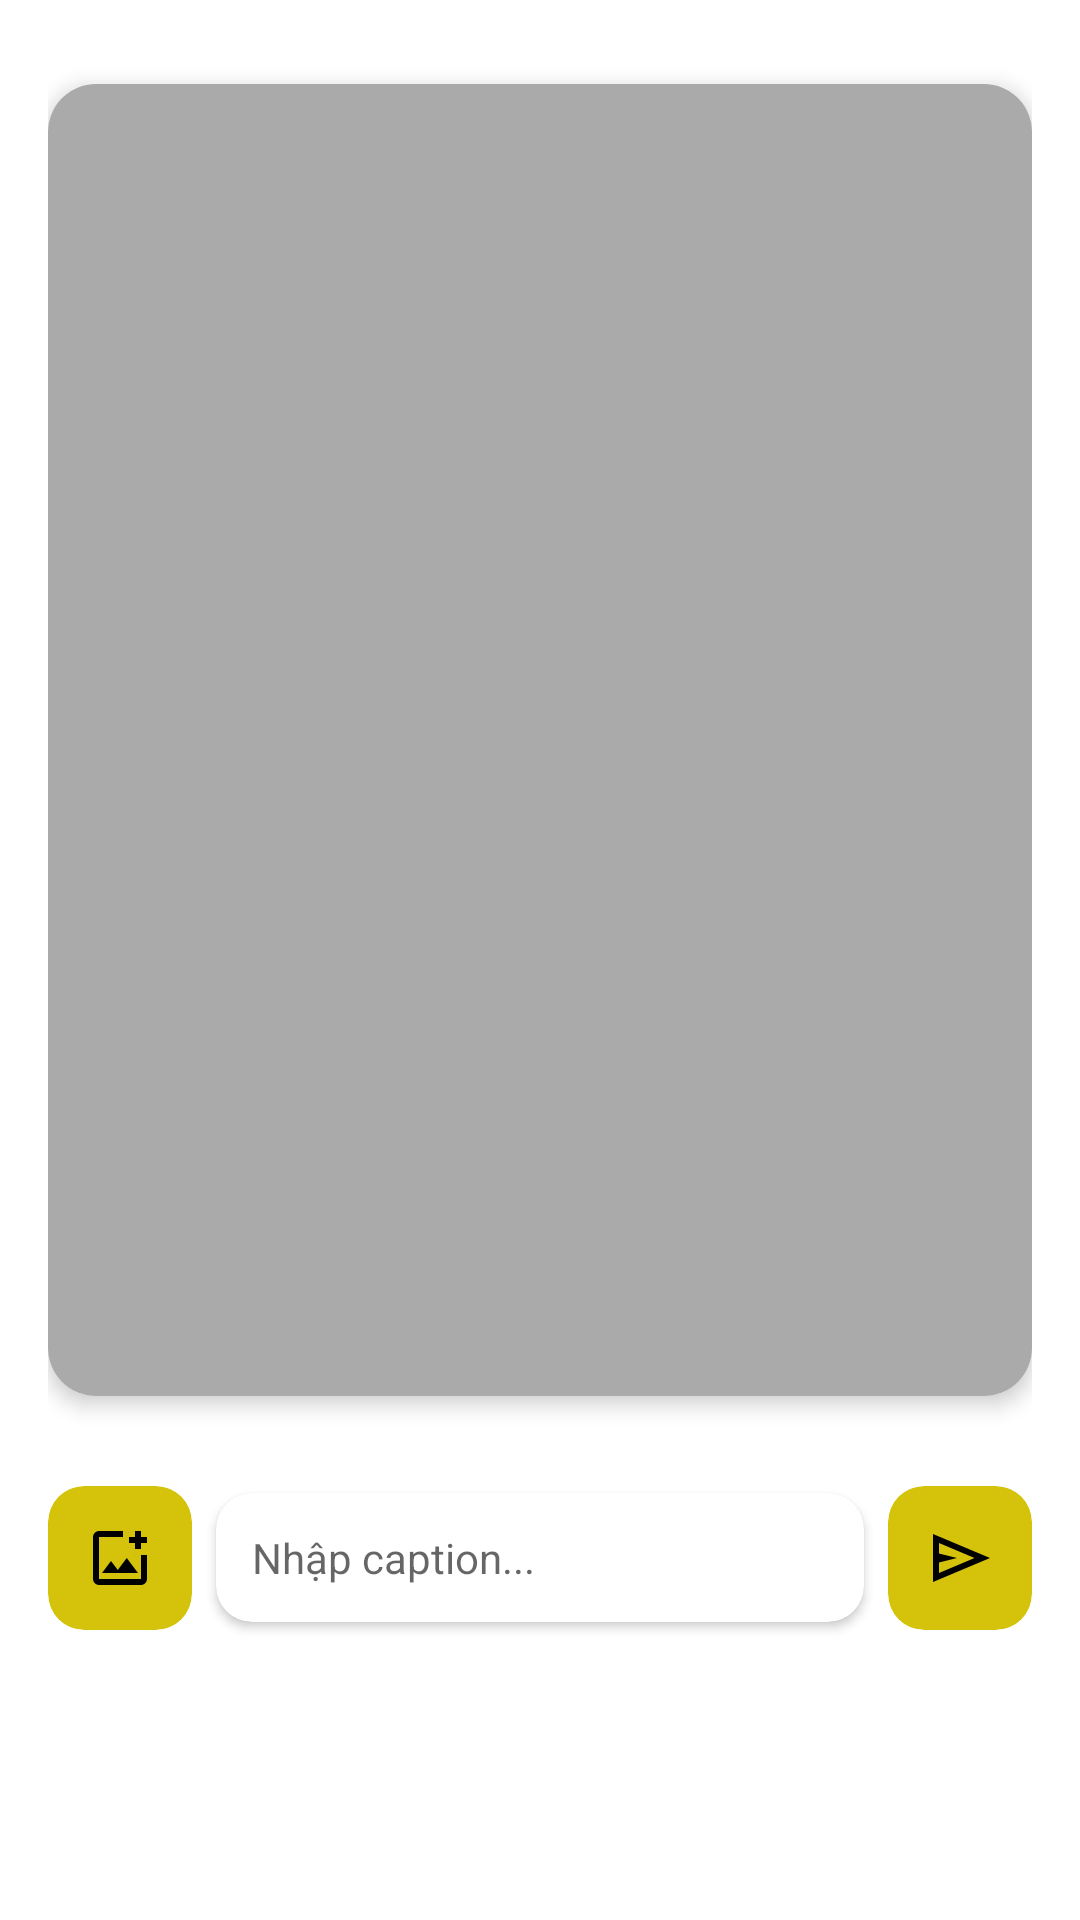

Icon click points for this 1080px x 1920px phone screenshot, format point (x, y):
Chọn ảnh từ máy: point (120, 1558)
